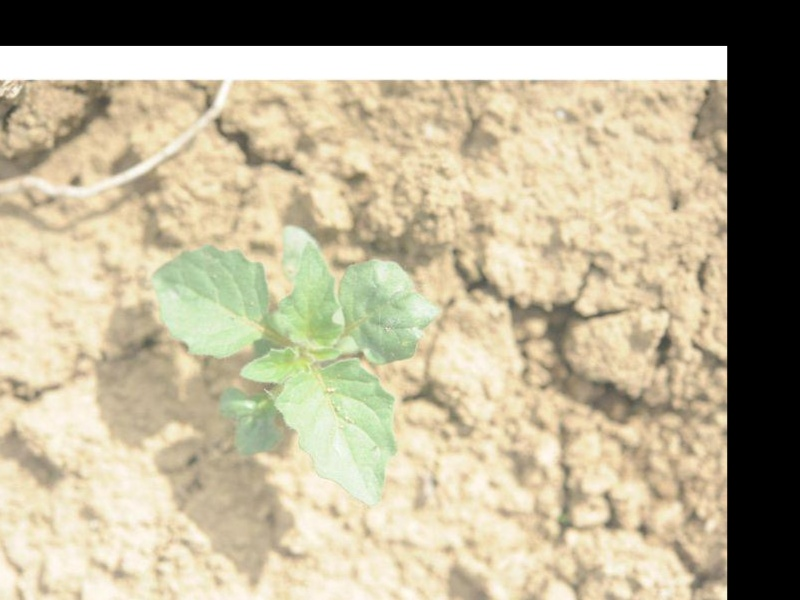nightshade: (149, 226, 441, 505)
